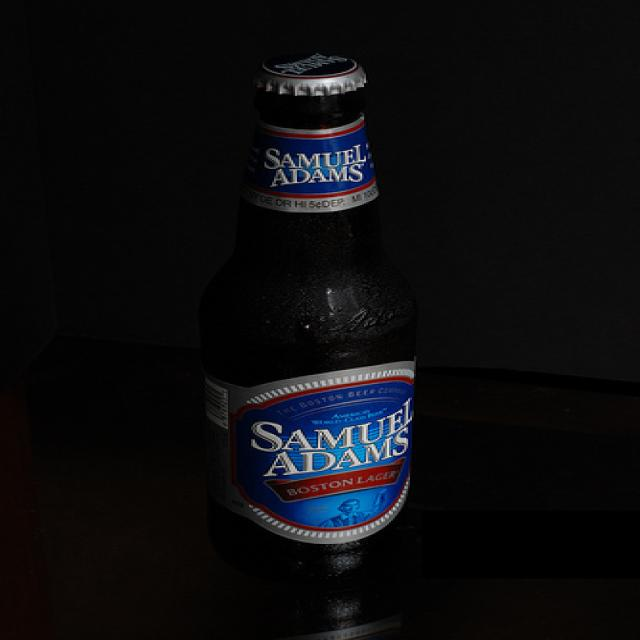Bottle: (204, 10, 504, 640)
